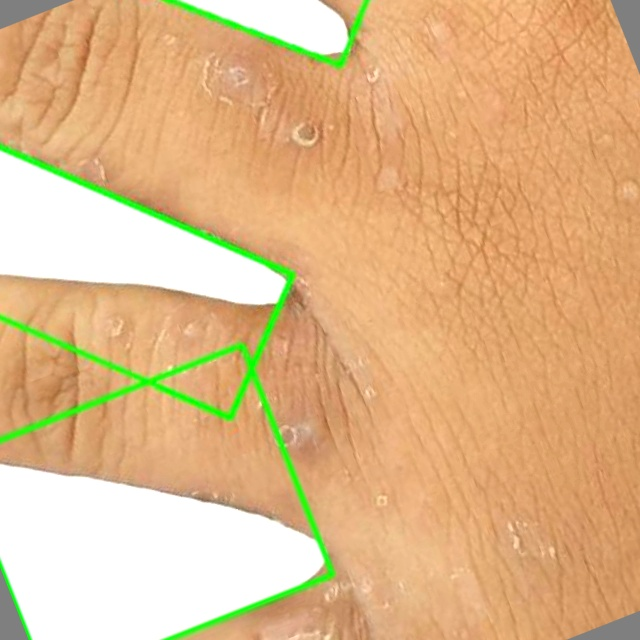Scabies: (0, 344, 332, 639), (0, 146, 294, 418)
